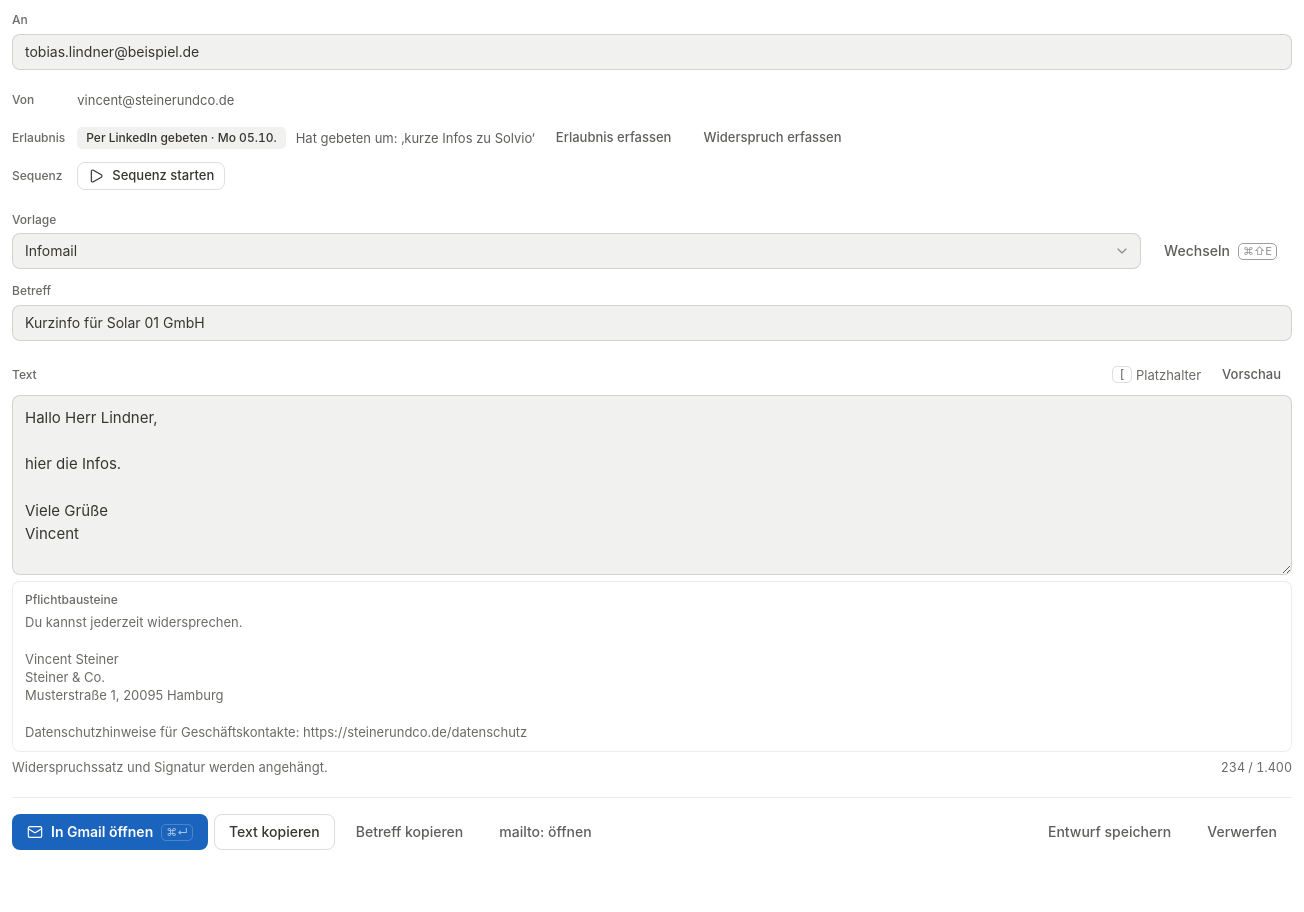
Scenario: Composer › „[“ im Text öffnet die Platzhalter-Liste; Enter fügt ein (und füllt sofort aus dem Lead)
Expected: the text with test id "von" reads "vincent@steinerundco.de", [77,92,234,108]
Step 1. Replace the text in the text box labelled "Text" with "Hallo [Vor" → (652, 485), box [12,395,1292,575]
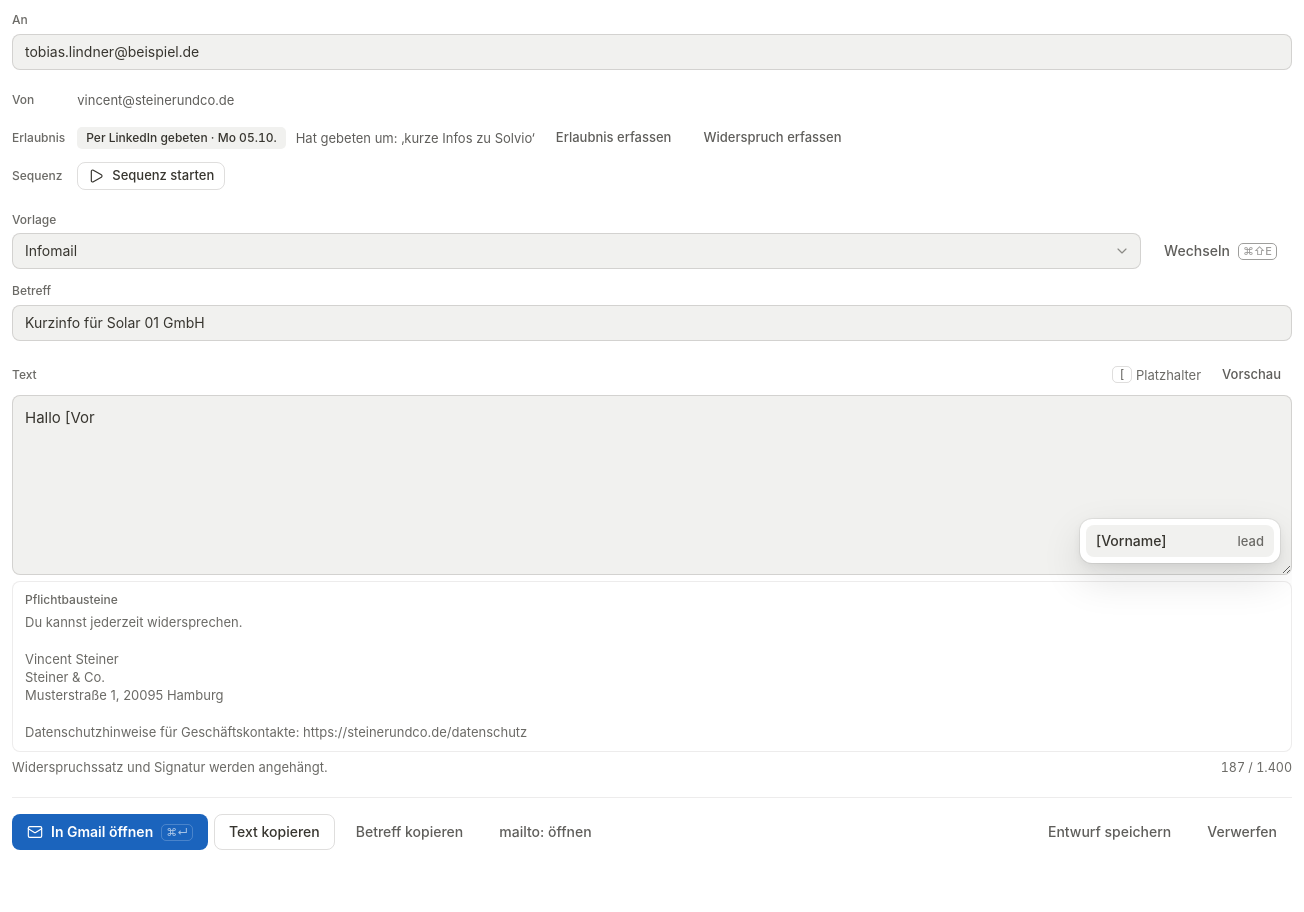
Now the option "[Vorname] lead" is shown, box [1086,525,1274,557]
Step 2. Press Enter in the text box labelled "Text", box [12,395,1292,575]
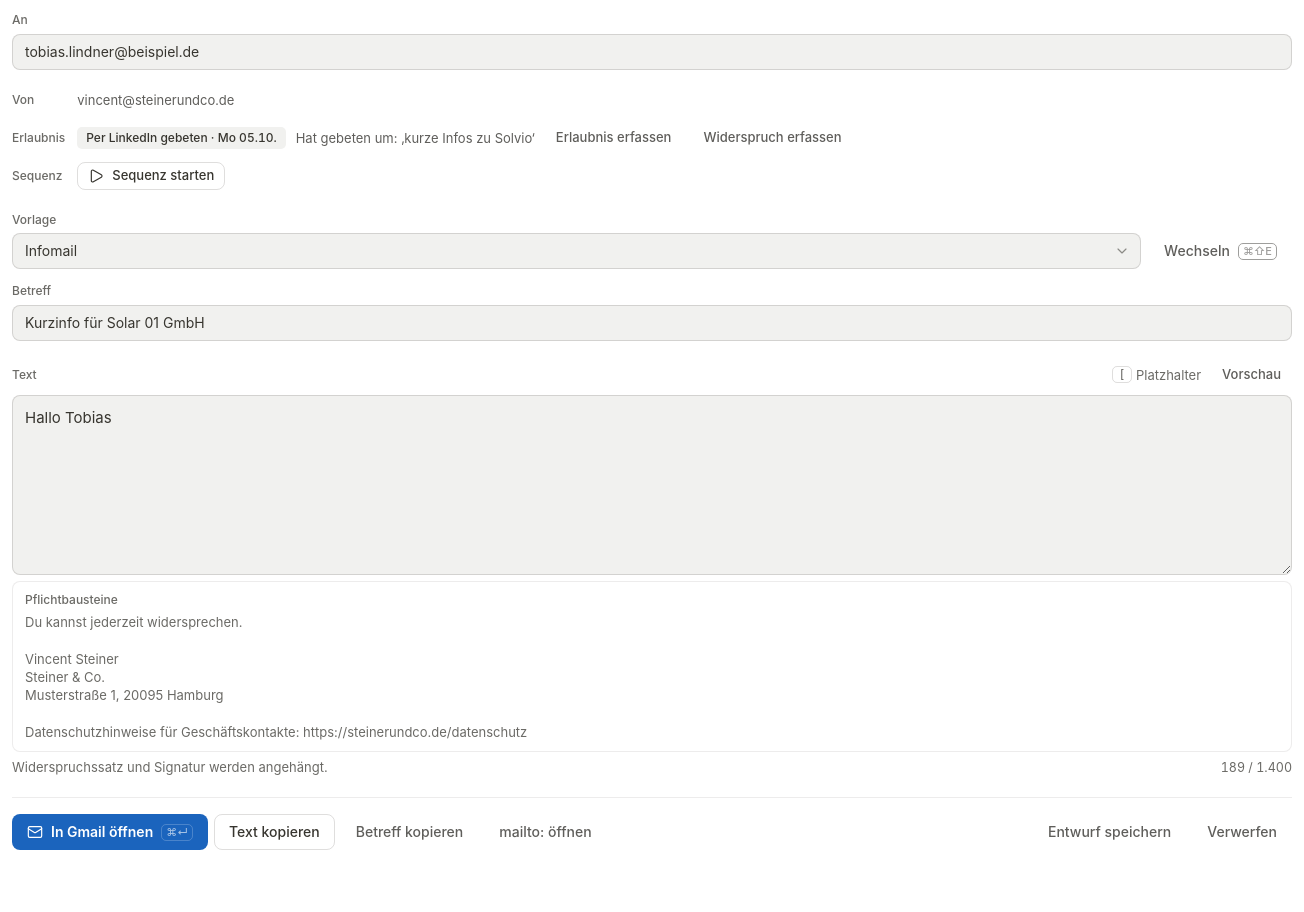
Now the text box labelled "Text" holds "Hallo Tobias", box [12,395,1292,575]
